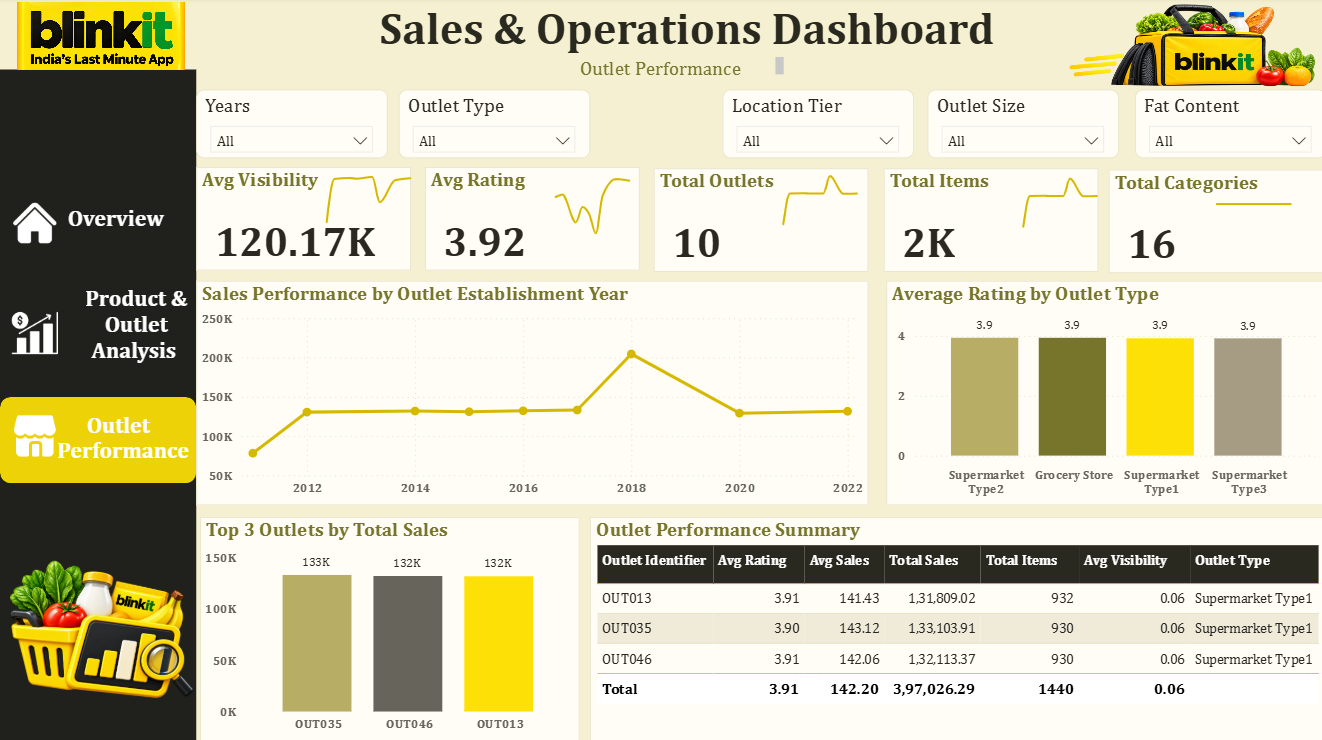

The dashboard page shown, as its layout file describes it:
{"tool":"powerbi","page":{"name":"Outlet Performance","canvas":[1280,720],"ordinal":2},"visuals":[{"type":"shape","box":[0,273.9,189.4,83.2],"z":0},{"type":"shape","box":[0,0,1280,143.6],"z":1000},{"type":"shape","box":[0,70,189.4,650.3],"z":2000},{"type":"slicer","title":"Location Tier","fields":{"Values":["BlinkIT_Grocery_Data.Outlet Location Type"]},"box":[697.3,89.3,184.6,66],"z":3000},{"type":"slicer","title":"Years","fields":{"Values":["BlinkIT_Grocery_Data.Outlet Establishment Year"]},"box":[189.4,89.3,184.6,66],"z":4000},{"type":"slicer","title":"Outlet Type","fields":{"Values":["BlinkIT_Grocery_Data.Outlet Type"]},"box":[384.9,89.3,184.6,66],"z":5000},{"type":"slicer","title":"Outlet Size","fields":{"Values":["BlinkIT_Grocery_Data.Outlet Size"]},"box":[895.2,89.3,184.6,66],"z":6000},{"type":"slicer","title":"Fat Content","fields":{"Values":["BlinkIT_Grocery_Data.Item Fat Content"]},"box":[1095.4,89.3,184.6,66],"z":7000},{"type":"textbox","box":[246.1,0,833.7,78.4],"z":8000},{"type":"textbox","box":[521.2,53.1,240.1,35],"z":9000},{"type":"image","box":[1021.9,0,258.2,94.1],"z":10000},{"type":"image","box":[0,0,195,75],"z":11000},{"type":"cardVisual","title":"Avg Visibility","fields":{"Data":["Measure.AVG SALES PER OOUTLET"]},"box":[189.4,164.1,207.5,100.1],"z":12000},{"type":"cardVisual","title":"Avg Rating","fields":{"Data":["Measure.AVG RATING"]},"box":[410.2,164.1,207.5,100.1],"z":13000},{"type":"cardVisual","title":"Total Outlets","fields":{"Data":["Measure.TOTAL OUTLETS"]},"box":[631,165.8,207.5,100.1],"z":14000},{"type":"cardVisual","title":"Total Items","fields":{"Data":["Measure.TOTAL ITEMS"]},"box":[853,165.8,207.5,100.1],"z":15000},{"type":"cardVisual","title":"Total Categories","fields":{"Data":["Measure.TOTAL CATEGORY"]},"box":[1070.1,167,208,100.1],"z":16000},{"type":"lineChart","title":"Sales Performance by Outlet Establishment Year","fields":{"Category":["BlinkIT_Grocery_Data.Outlet Establishment Year"],"Y":["Measure.TOTAL SALES"]},"box":[189.4,273.9,649.1,217.2],"z":17000},{"type":"clusteredColumnChart","title":"Average Rating by Outlet Type","fields":{"Category":["BlinkIT_Grocery_Data.Outlet Type"],"Y":["Measure.AVG RATING"]},"box":[855.4,273.9,424.7,217.2],"z":18000},{"type":"columnChart","title":"Top 3 Outlets by Total Sales","fields":{"Y":["Measure.TOTAL SALES"],"Category":["BlinkIT_Grocery_Data.Outlet Identifier"]},"box":[193,501.9,366.8,217.2],"z":19000},{"type":"textbox","box":[60.3,196.6,115.8,43.4],"z":20000},{"type":"image","box":[6,190.6,55,55],"z":21000},{"type":"image","box":[6,296.8,55,55],"z":22000},{"type":"textbox","box":[73.6,273.9,115.8,92.9],"z":23000},{"type":"lineChart","fields":{"Category":["BlinkIT_Grocery_Data.Outlet Establishment Year"],"Y":["Measure.AVG SALES PER OOUTLET"]},"box":[293.2,154.4,139.9,83.2],"z":24000},{"type":"lineChart","fields":{"Category":["BlinkIT_Grocery_Data.Outlet Establishment Year"],"Y":["Measure.AVG RATING"]},"box":[515.2,154.4,126.7,83.2],"z":25000},{"type":"lineChart","fields":{"Category":["BlinkIT_Grocery_Data.Outlet Establishment Year"],"Y":["Measure.TOTAL ITEMS"]},"box":[734.7,154.4,126.7,83.2],"z":26000},{"type":"lineChart","fields":{"Category":["BlinkIT_Grocery_Data.Outlet Establishment Year"],"Y":["Measure.TOTAL ITEMS"]},"box":[966.4,156.8,126.7,83.2],"z":27000},{"type":"lineChart","fields":{"Category":["BlinkIT_Grocery_Data.Outlet Establishment Year"],"Y":["Measure.TOTAL CATEGORY"]},"box":[1153.4,154.4,126.7,83.2],"z":28000},{"type":"tableEx","title":"Outlet Performance Summary","fields":{"Values":["BlinkIT_Grocery_Data.Outlet Identifier","Measure.AVG RATING","Measure.AVG SALES","Measure.TOTAL SALES","Measure.TOTAL ITEMS","Measure.AVG VISIBILITY","BlinkIT_Grocery_Data.Outlet Type"]},"box":[569.4,501.9,710.6,218.4],"z":29000},{"type":"image","box":[0,510.3,200.3,200.3],"z":30000},{"type":"shape","box":[0,386.1,189.4,83.2],"z":31000},{"type":"image","box":[6,395.7,55,55],"z":32000},{"type":"textbox","box":[41,395.7,155.6,62.7],"z":33000},{"type":"actionButton","box":[0,170.6,189.4,83.2],"z":34000},{"type":"actionButton","box":[0,270.2,189.4,92.9],"z":35000},{"type":"actionButton","box":[0,387.3,189.4,83.2],"z":36000}]}

Visuals, with their boxes in screenshot pixels (x1, y1, x2, y2), scaled from the page's 1280x720 canvas onto the 1322x740 screenshot:
shape: [x1=0, y1=282, x2=196, y2=367]
shape: [x1=0, y1=0, x2=1321, y2=148]
shape: [x1=0, y1=72, x2=196, y2=739]
"Location Tier" slicer: [x1=720, y1=92, x2=911, y2=160]
"Years" slicer: [x1=196, y1=92, x2=386, y2=160]
"Outlet Type" slicer: [x1=398, y1=92, x2=588, y2=160]
"Outlet Size" slicer: [x1=925, y1=92, x2=1115, y2=160]
"Fat Content" slicer: [x1=1131, y1=92, x2=1321, y2=160]
textbox: [x1=254, y1=0, x2=1115, y2=81]
textbox: [x1=538, y1=55, x2=786, y2=91]
image: [x1=1055, y1=0, x2=1321, y2=97]
image: [x1=0, y1=0, x2=201, y2=77]
"Avg Visibility" cardVisual: [x1=196, y1=169, x2=410, y2=272]
"Avg Rating" cardVisual: [x1=424, y1=169, x2=638, y2=272]
"Total Outlets" cardVisual: [x1=652, y1=170, x2=866, y2=273]
"Total Items" cardVisual: [x1=881, y1=170, x2=1095, y2=273]
"Total Categories" cardVisual: [x1=1105, y1=172, x2=1320, y2=275]
"Sales Performance by Outlet Establishment Year" lineChart: [x1=196, y1=282, x2=866, y2=505]
"Average Rating by Outlet Type" clusteredColumnChart: [x1=883, y1=282, x2=1321, y2=505]
"Top 3 Outlets by Total Sales" columnChart: [x1=199, y1=516, x2=578, y2=739]
textbox: [x1=62, y1=202, x2=182, y2=247]
image: [x1=6, y1=196, x2=63, y2=252]
image: [x1=6, y1=305, x2=63, y2=362]
textbox: [x1=76, y1=282, x2=196, y2=377]
lineChart - BlinkIT_Grocery_Data.Outlet Establishment Year x Measure.AVG SALES PER OOUTLET: [x1=303, y1=159, x2=447, y2=244]
lineChart - BlinkIT_Grocery_Data.Outlet Establishment Year x Measure.AVG RATING: [x1=532, y1=159, x2=663, y2=244]
lineChart - BlinkIT_Grocery_Data.Outlet Establishment Year x Measure.TOTAL ITEMS: [x1=759, y1=159, x2=890, y2=244]
lineChart - BlinkIT_Grocery_Data.Outlet Establishment Year x Measure.TOTAL ITEMS: [x1=998, y1=161, x2=1129, y2=247]
lineChart - BlinkIT_Grocery_Data.Outlet Establishment Year x Measure.TOTAL CATEGORY: [x1=1191, y1=159, x2=1321, y2=244]
"Outlet Performance Summary" tableEx: [x1=588, y1=516, x2=1321, y2=739]
image: [x1=0, y1=524, x2=207, y2=730]
shape: [x1=0, y1=397, x2=196, y2=482]
image: [x1=6, y1=407, x2=63, y2=463]
textbox: [x1=42, y1=407, x2=203, y2=471]
actionButton: [x1=0, y1=175, x2=196, y2=261]
actionButton: [x1=0, y1=278, x2=196, y2=373]
actionButton: [x1=0, y1=398, x2=196, y2=484]
